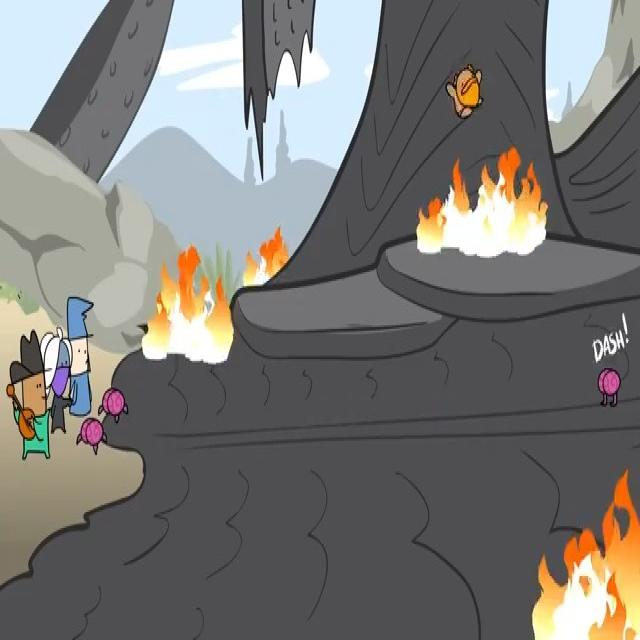Banjovi: (6, 330, 51, 460)
Haagen-Daz: (446, 64, 484, 119)
Josh: (67, 297, 94, 417)
miss Demeanor: (40, 326, 73, 434)
